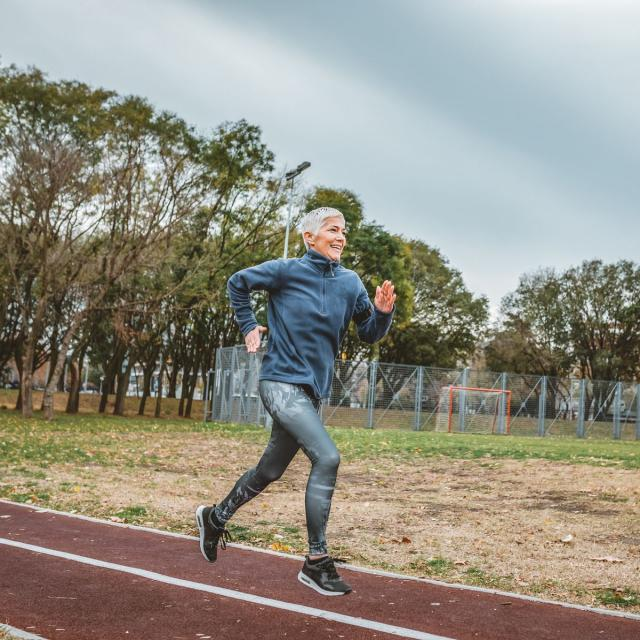Person: (195, 205, 398, 597)
